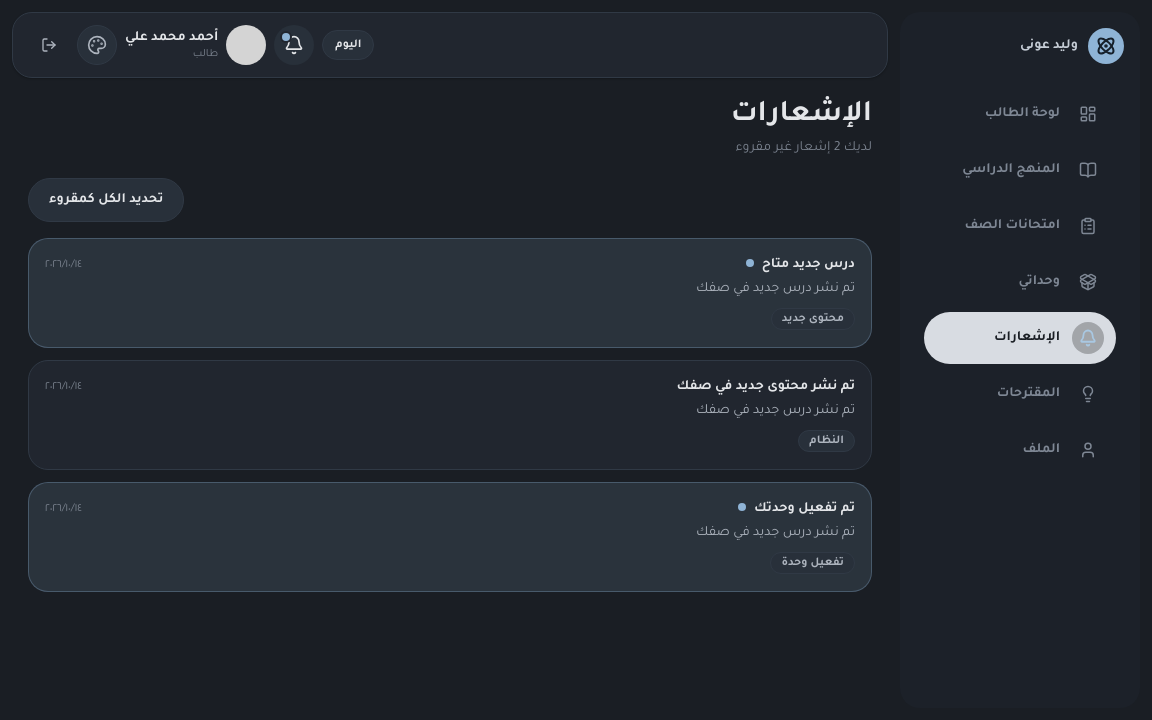
it: StudentNotificationsPage › marks all notifications read via the button
Click the button with test id "mark-all-read": (106, 200) [28,178,184,222]
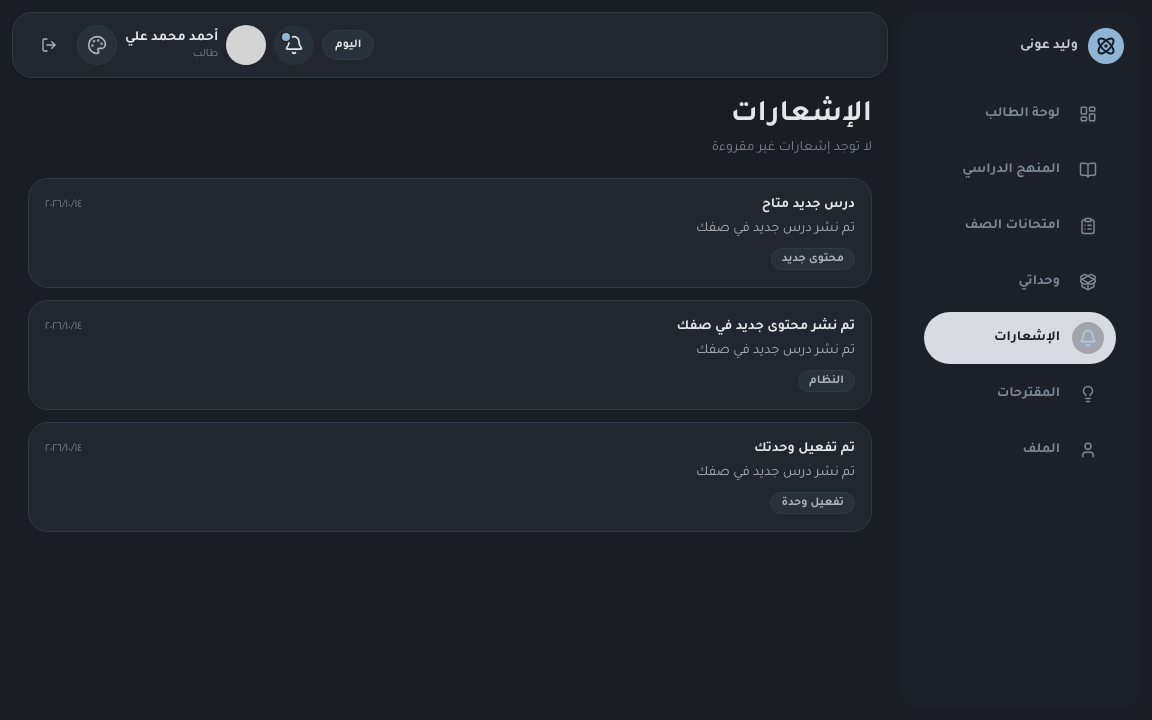
Expected: the text "لا توجد إشعارات غير مقروءة" is shown, [712,138,872,158]
Expected: the button with test id "mark-all-read" is gone
